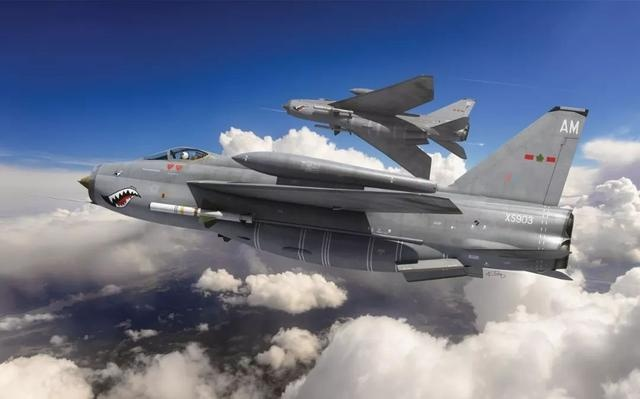airplane: (76, 104, 588, 281), (281, 75, 474, 181)
